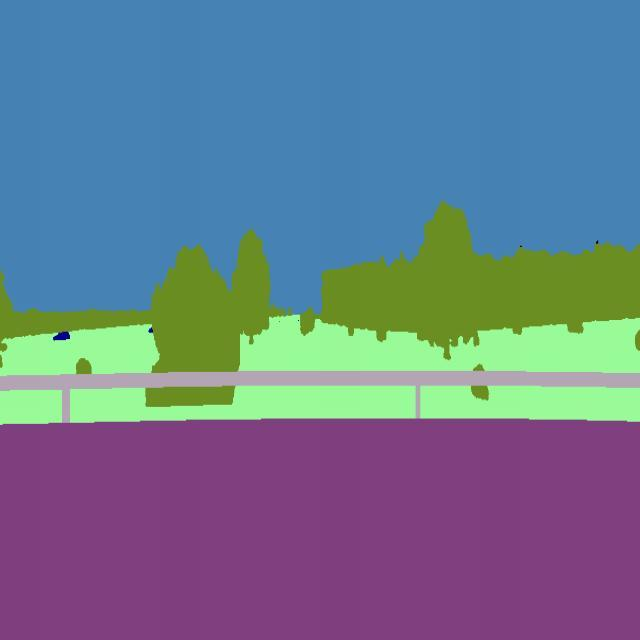safe: (49, 328, 76, 344)
